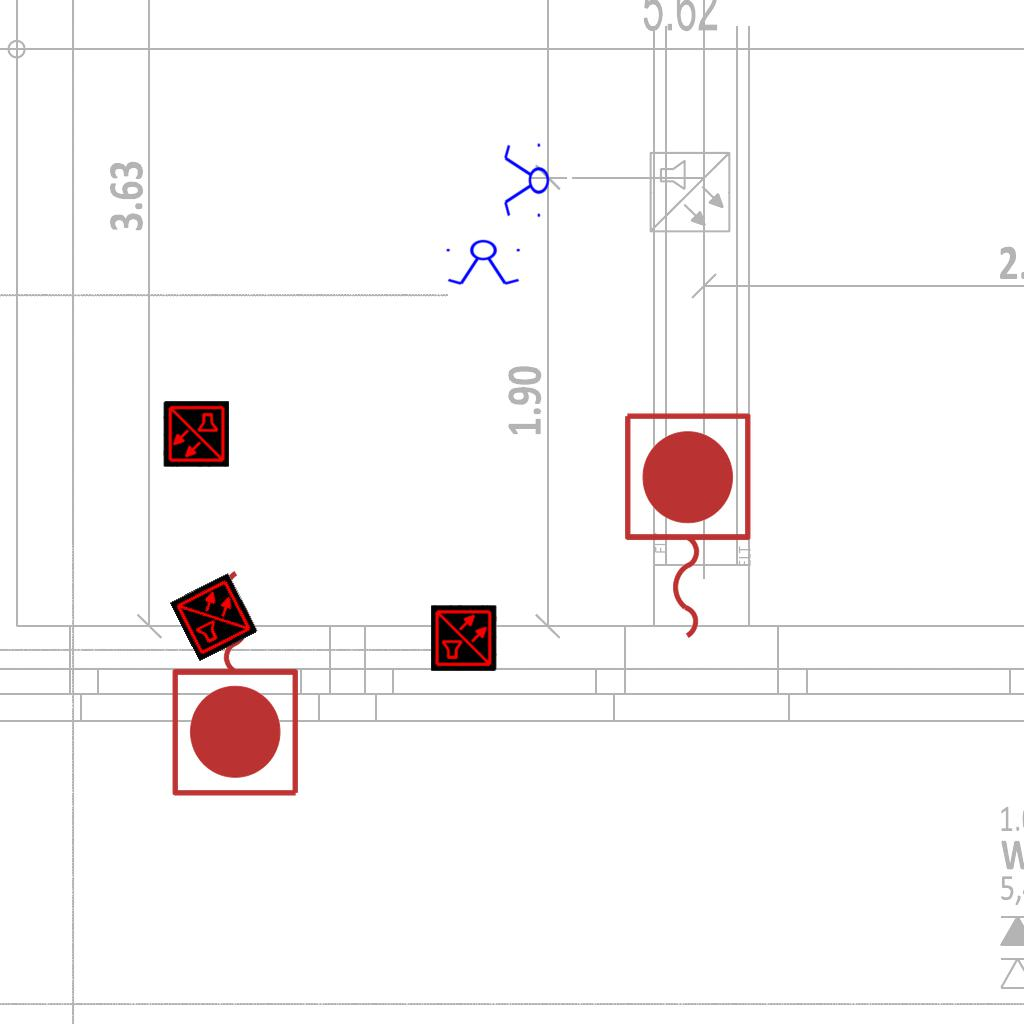OKW_Multisensormelder_(Kombination_optischer_Rauch-Kahlenmonoxid_Waerme-Melder): (169, 572, 259, 662), (431, 605, 497, 671), (163, 401, 229, 467)
Serienschalter: (502, 139, 550, 223), (442, 239, 526, 287)
Zugtaster: (165, 560, 309, 804), (614, 405, 758, 649)
